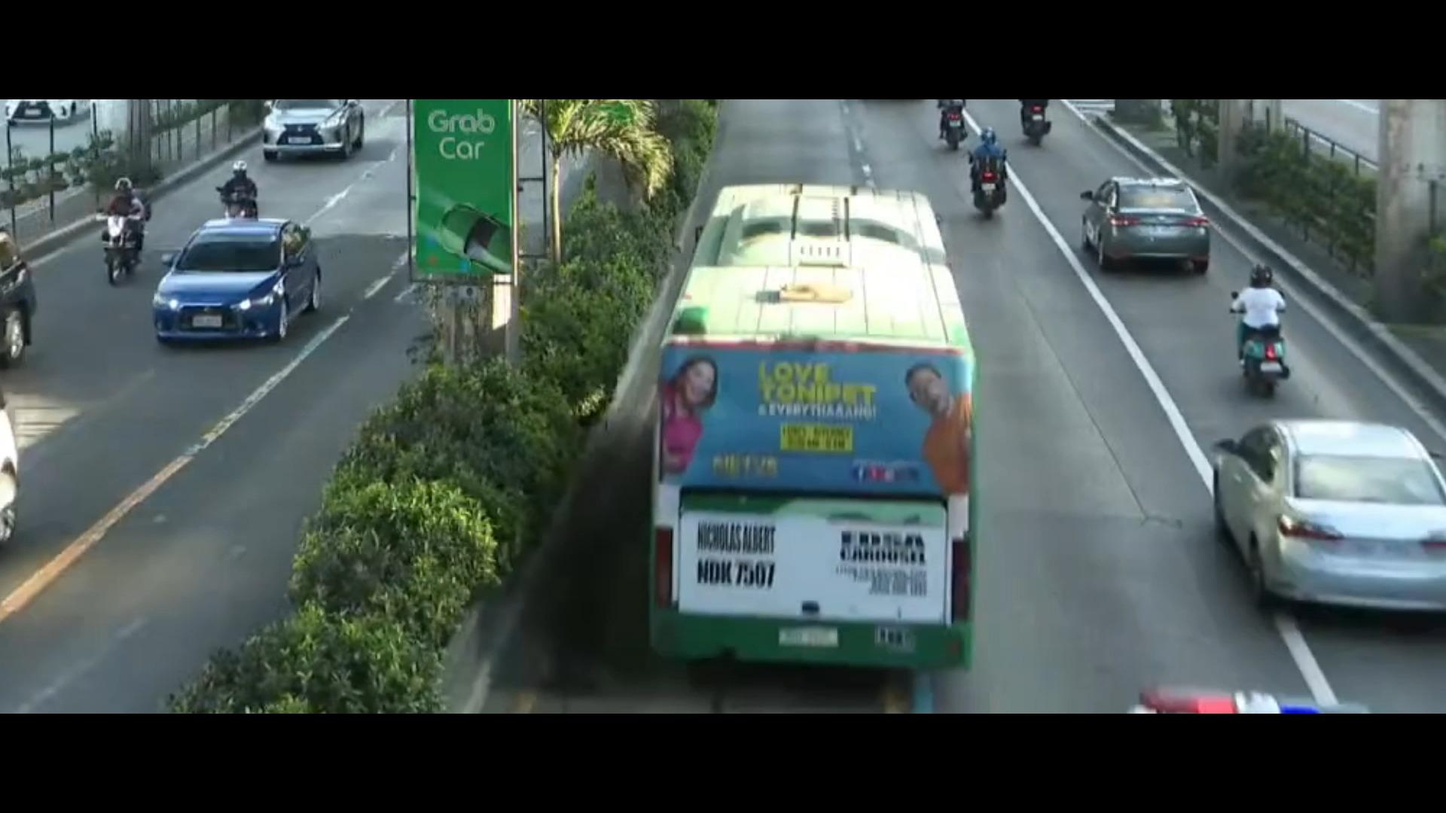Bus: (622, 174, 989, 662)
Motorcycle: (1211, 256, 1318, 408), (72, 172, 179, 296), (214, 155, 277, 226), (961, 132, 1015, 206), (1012, 101, 1068, 158), (927, 98, 977, 143)
Sedan: (1149, 382, 1446, 632), (143, 196, 345, 358), (1077, 157, 1232, 292), (244, 93, 364, 166)
